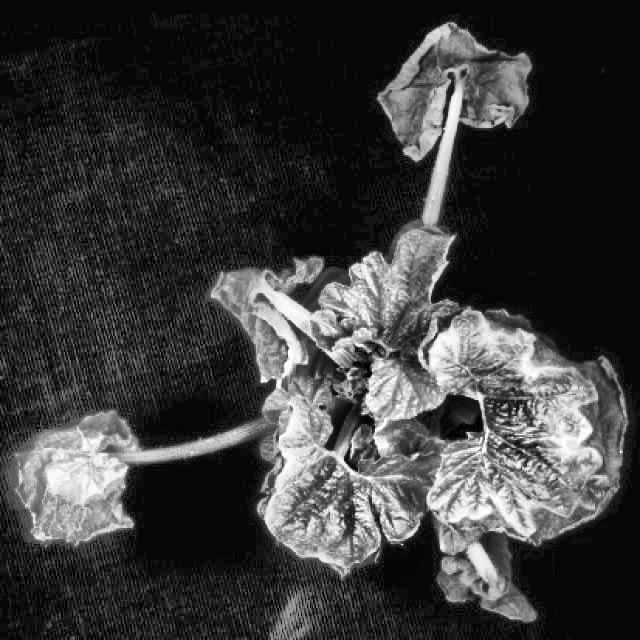plants: (0, 20, 638, 635)
